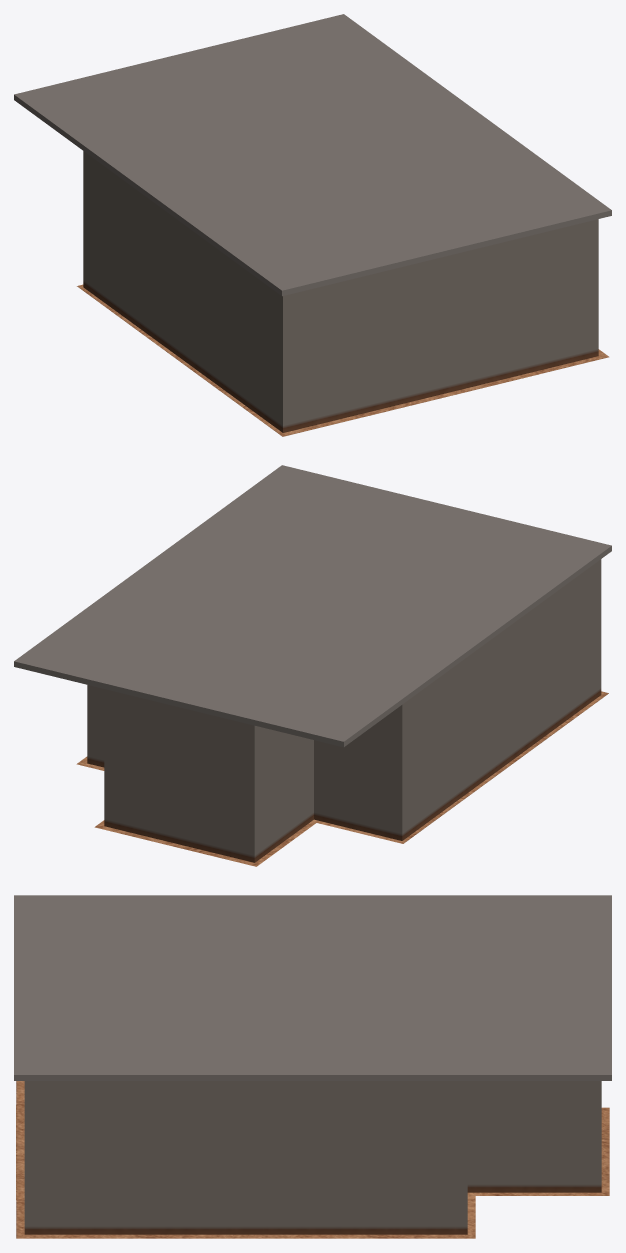
File: Room Geometry (Start).fbx
3 views of the same model, one above another, from view 1: azimuth 30°, elevation 25°; view 2: azimuth 150°, elevation 25°; view 3: azimuth 270°, elevation 25° (orthographic). The views are drawn at different scales.
Parts seen in each view (by area): view 1: Cube.001, Cube.002, Cube; view 2: Cube.001, Cube.002, Cube; view 3: Cube.001, Cube.002, Cube.
Part boxes in pixels (x1,y1,x2,y2): Cube.001: (14, 14, 611, 296); Cube.002: (83, 151, 598, 432); Cube: (77, 284, 609, 436); Cube.001: (14, 465, 611, 747); Cube.002: (87, 559, 601, 862); Cube: (76, 691, 608, 866); Cube.001: (14, 895, 611, 1080); Cube.002: (24, 1081, 601, 1234); Cube: (16, 1081, 609, 1238).
Size of the model in its own units: 1233 by 530 by 1735.
